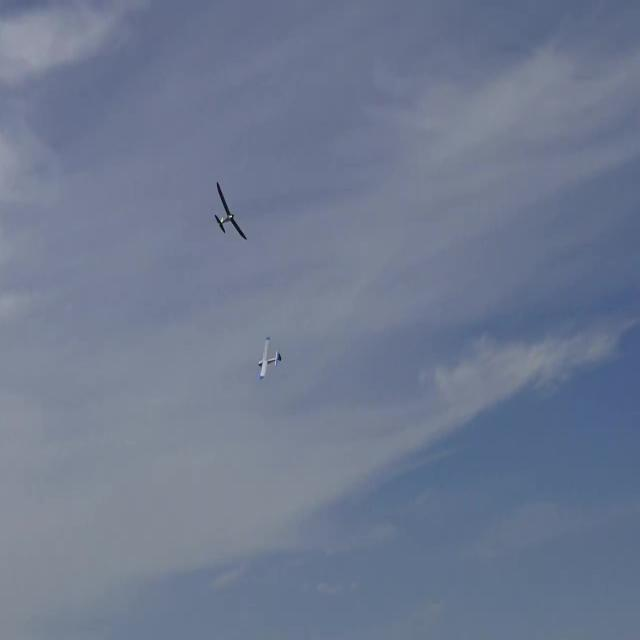iha: (214, 181, 248, 241), (258, 336, 281, 378)
